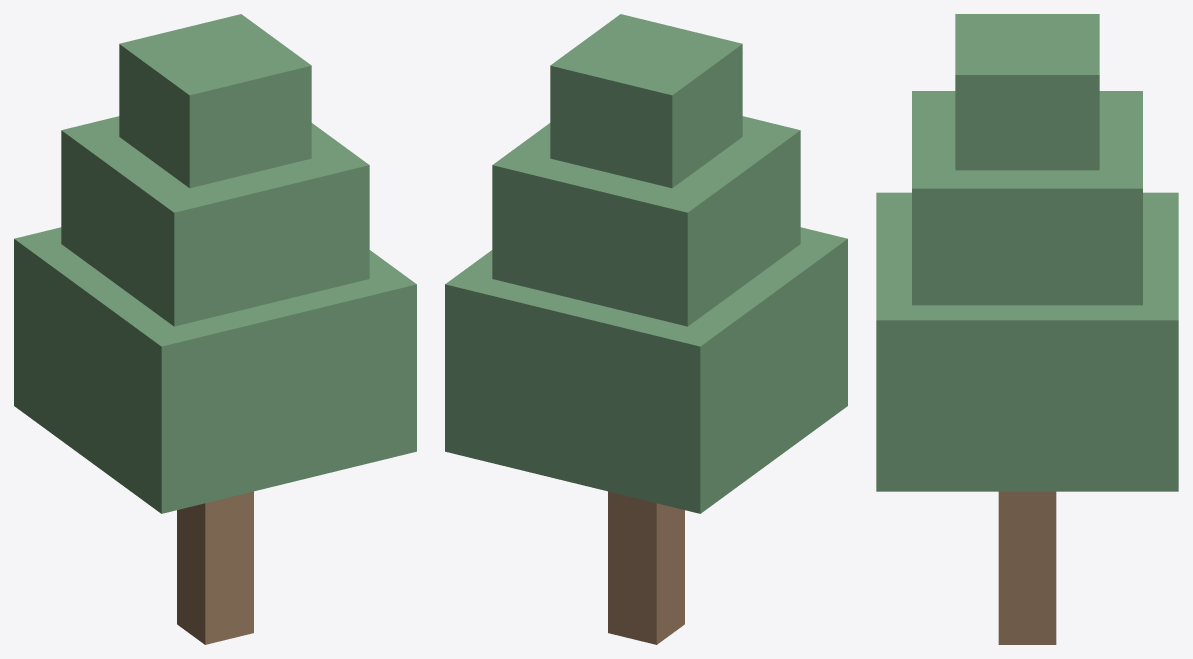
The model's file is pine.gltf.
3 views of the same model, side by side, from view 1: azimuth 30°, elevation 25°; view 2: azimuth 150°, elevation 25°; view 3: azimuth 270°, elevation 25° (orthographic). The views are drawn at different scales.
Parts seen in each view (by area): view 1: pine; view 2: pine; view 3: pine.
Boxes of the visible parts, <box> form: pine: <box>14,14,416,644</box>; pine: <box>445,14,847,644</box>; pine: <box>876,14,1178,644</box>.
Size of the model in its own units: 1.15 by 2.47 by 1.15.
